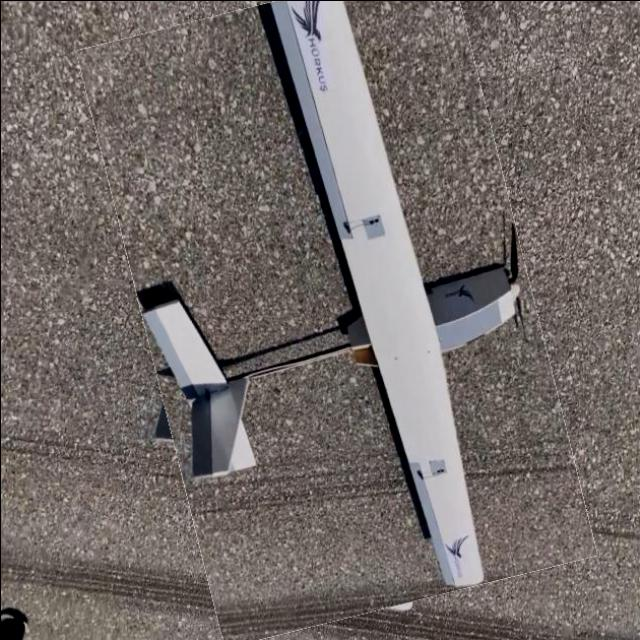plane: (75, 0, 597, 640)
